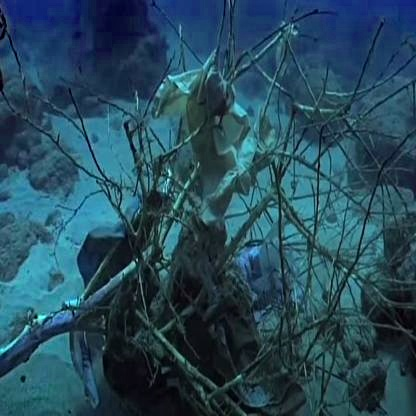plastic: (170, 44, 315, 252)
